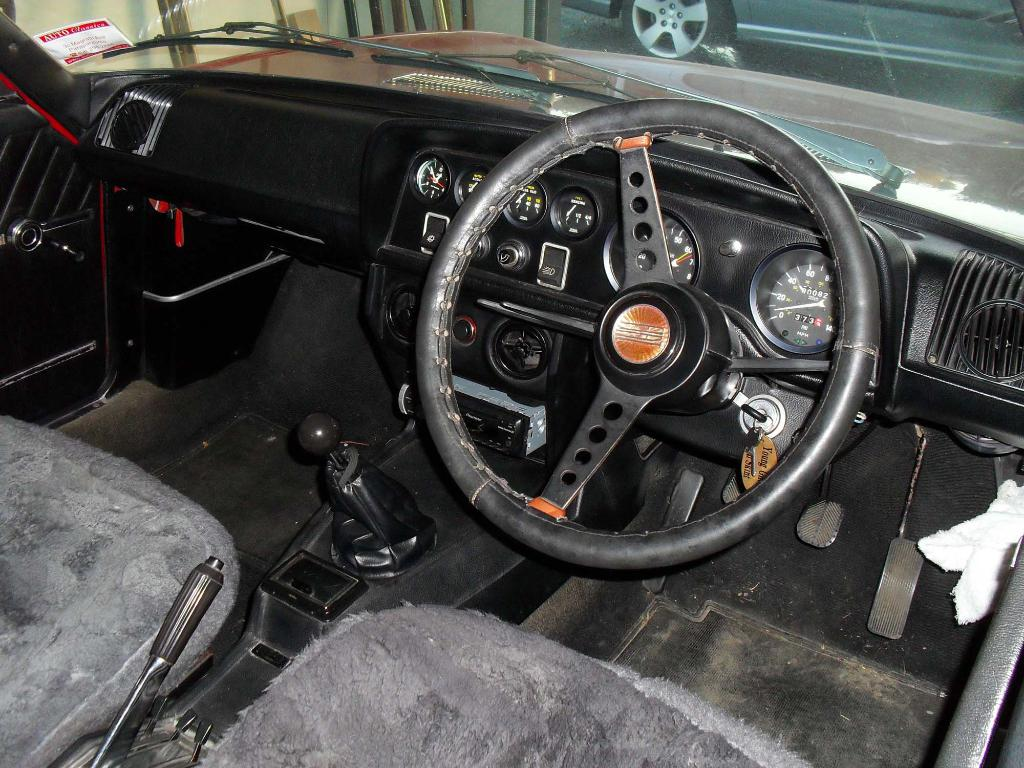Car: (0, 0, 1023, 767), (562, 0, 1023, 123)
